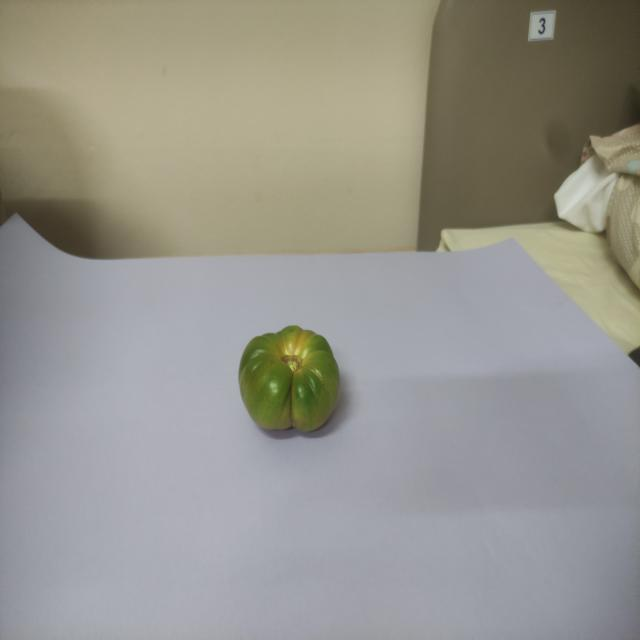yesil: (218, 306, 340, 441)
